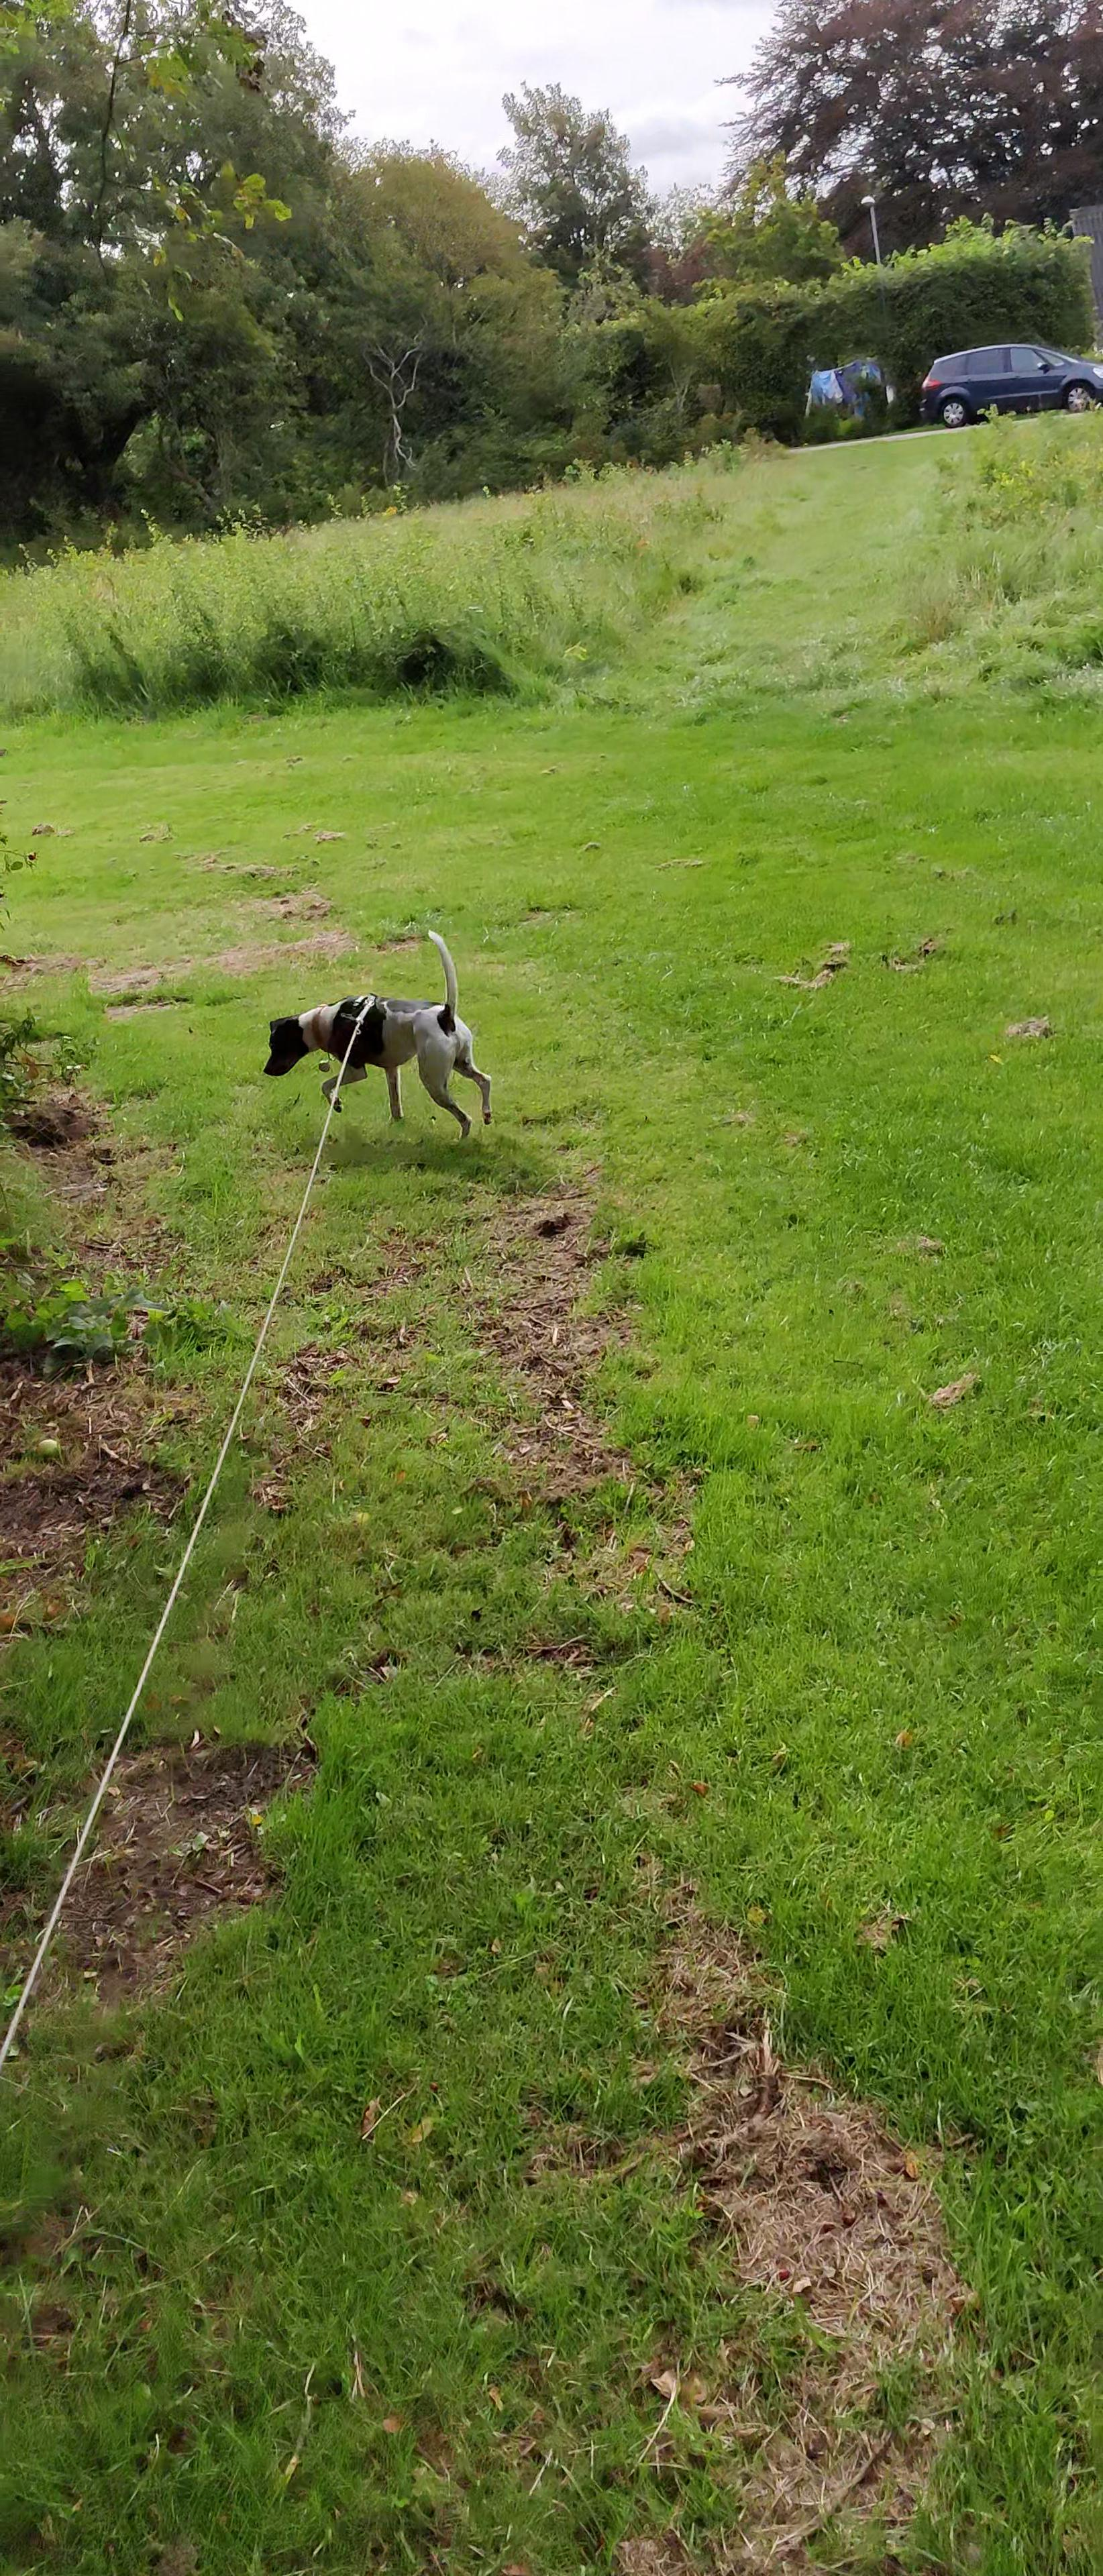Dog: (258, 922, 500, 1153)
